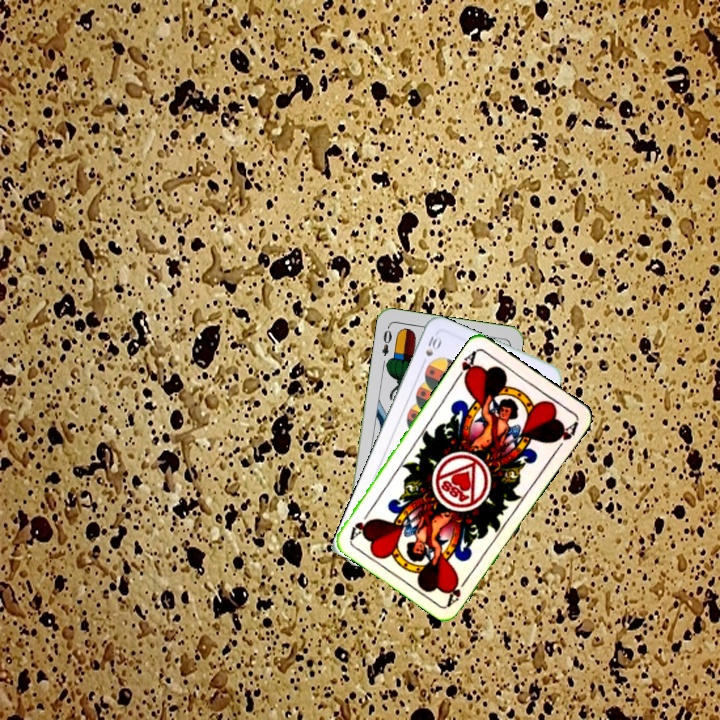EO: (378, 322, 394, 359)
HA: (452, 346, 479, 385), (443, 572, 472, 608)
S10: (421, 332, 443, 359)
